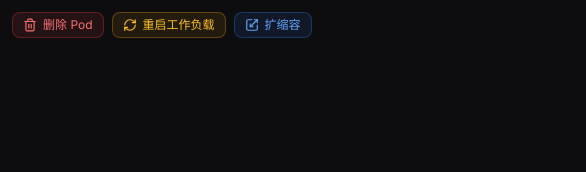
Scenario: PodOpsBar 删除 › 第一次点击只展开二次确认，不发请求
Click the button "删除 Pod": (58, 25) [12,12,104,38]
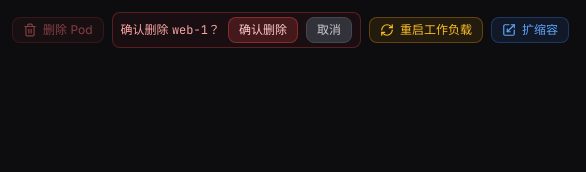
Expected: the text "确认删除" is shown, [120,22,172,37]
